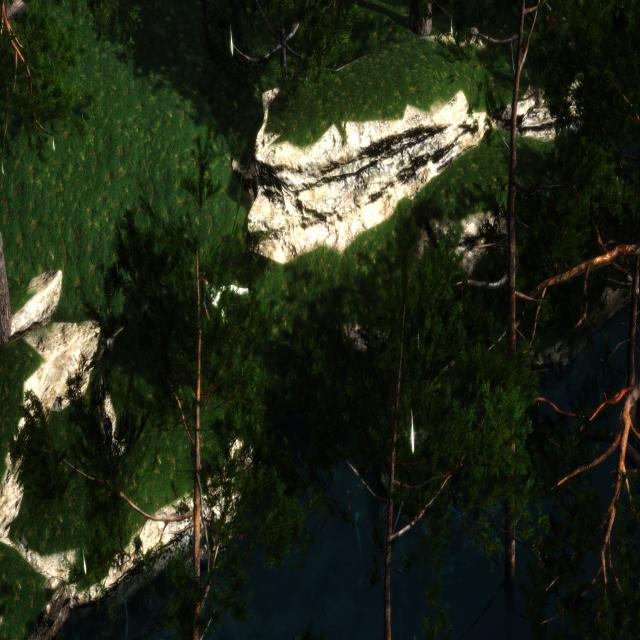Human: (197, 264, 256, 336)
